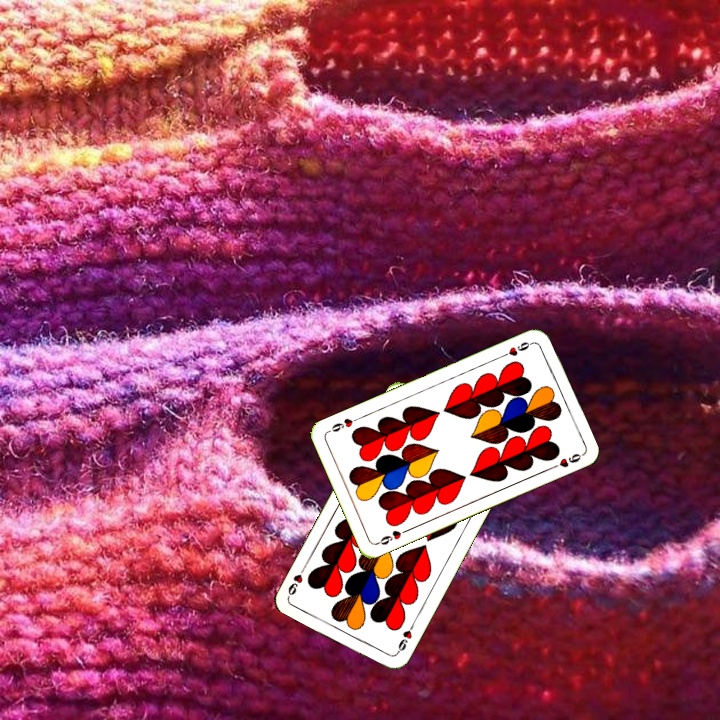H9: (392, 619, 417, 657), (373, 525, 411, 548), (497, 338, 536, 360)
